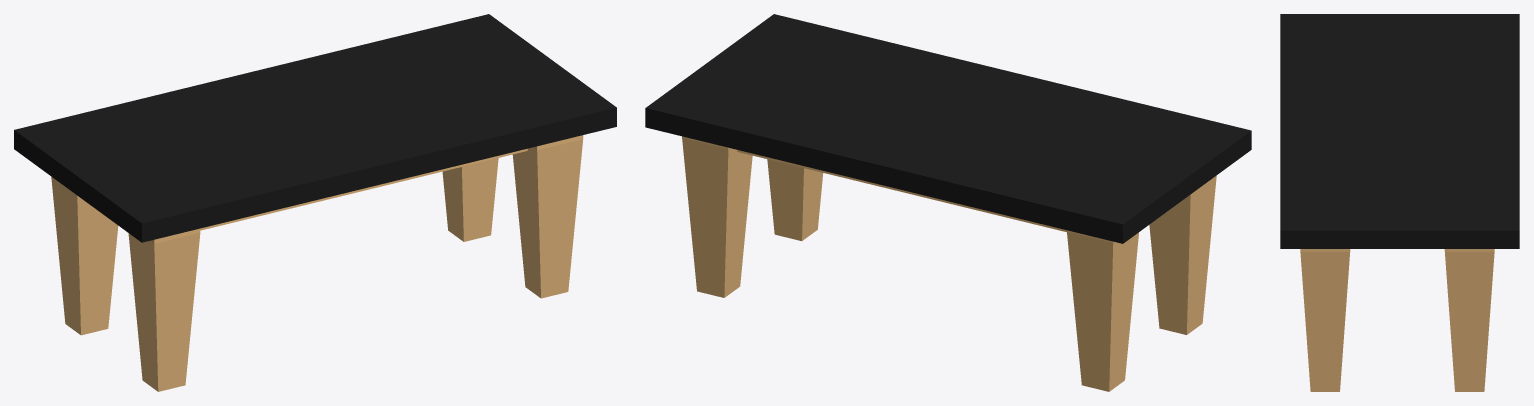
The model's file is scene_lRbWXjGnf3.glb.
3 renders of one model, left to right at view 1: azimuth 30°, elevation 25°; view 2: azimuth 150°, elevation 25°; view 3: azimuth 270°, elevation 25°, orthographic. The views are drawn at different scales.
Parts seen in each view (by area): view 1: Node; view 2: Node; view 3: Node.
Part boxes in pixels (<box>): Node: <box>14,14,616,391</box>; Node: <box>645,14,1251,391</box>; Node: <box>1280,14,1519,391</box>.
Bounding box in the file's own units: 1.03 × 0.39 × 0.48.
